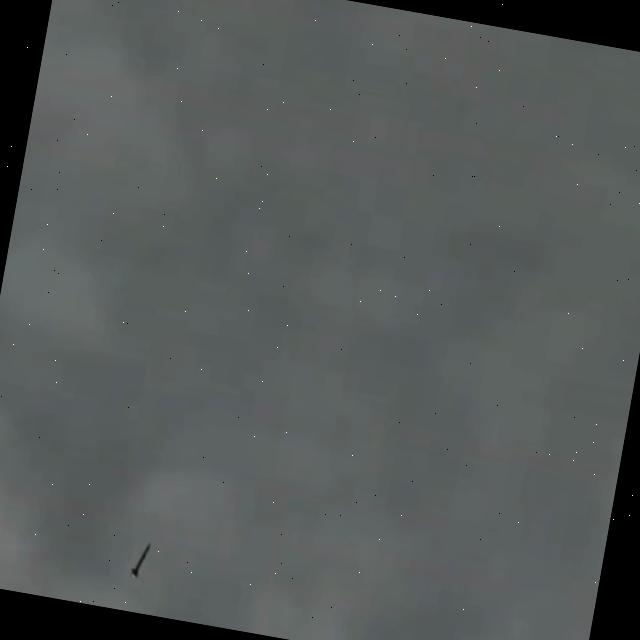rocket: (128, 543, 150, 577)
